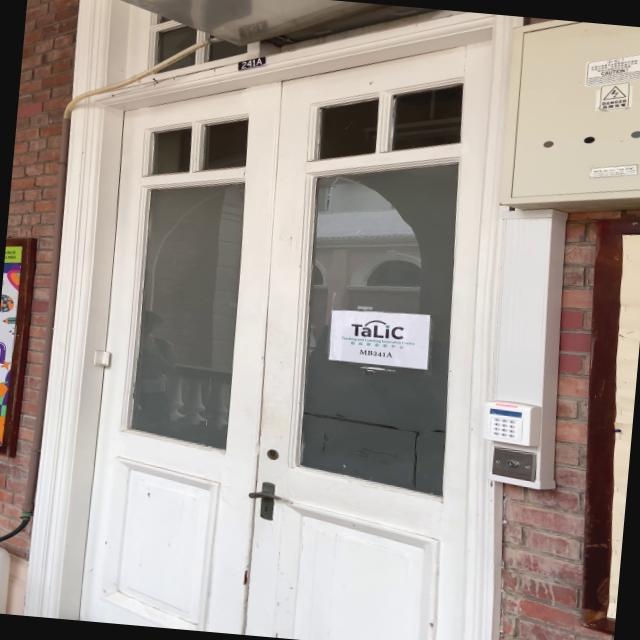room241a: (232, 53, 268, 75)
